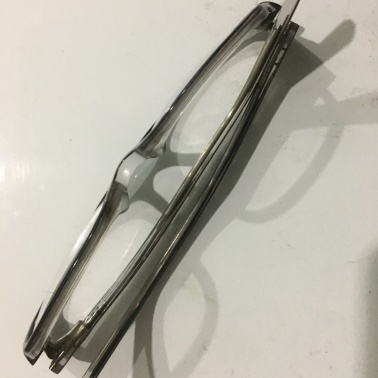glasses: (89, 18, 256, 378)
